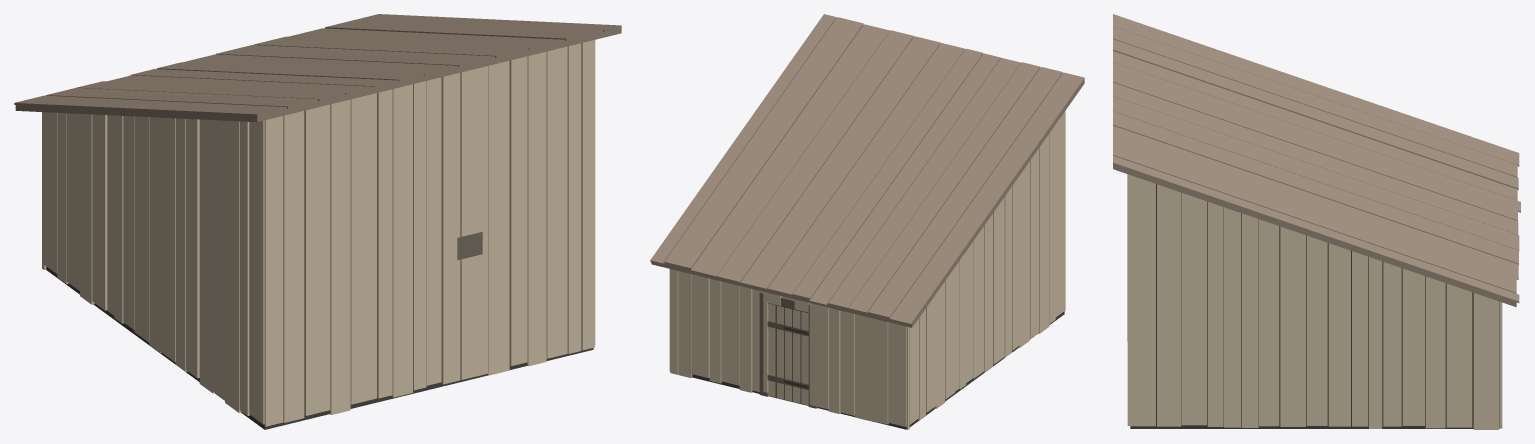
Rendered from recon_1835_blk_randolph_clark_d2_05__inferred_1835.glb.
3 renders of one model, left to right at view 1: azimuth 30°, elevation 25°; view 2: azimuth 150°, elevation 25°; view 3: azimuth 270°, elevation 25°, orthographic. The views are drawn at different scales.
Parts seen in each view (by area): view 1: recon_1835_blk_randolph_clark_d2_05__inferred_1835; view 2: recon_1835_blk_randolph_clark_d2_05__inferred_1835; view 3: recon_1835_blk_randolph_clark_d2_05__inferred_1835.
Boxes of the visible parts, <box> form: recon_1835_blk_randolph_clark_d2_05__inferred_1835: <box>14,14,621,429</box>; recon_1835_blk_randolph_clark_d2_05__inferred_1835: <box>650,14,1084,429</box>; recon_1835_blk_randolph_clark_d2_05__inferred_1835: <box>1113,14,1520,429</box>.
Size of the model in its own units: 5.44 by 4.68 by 6.31.
